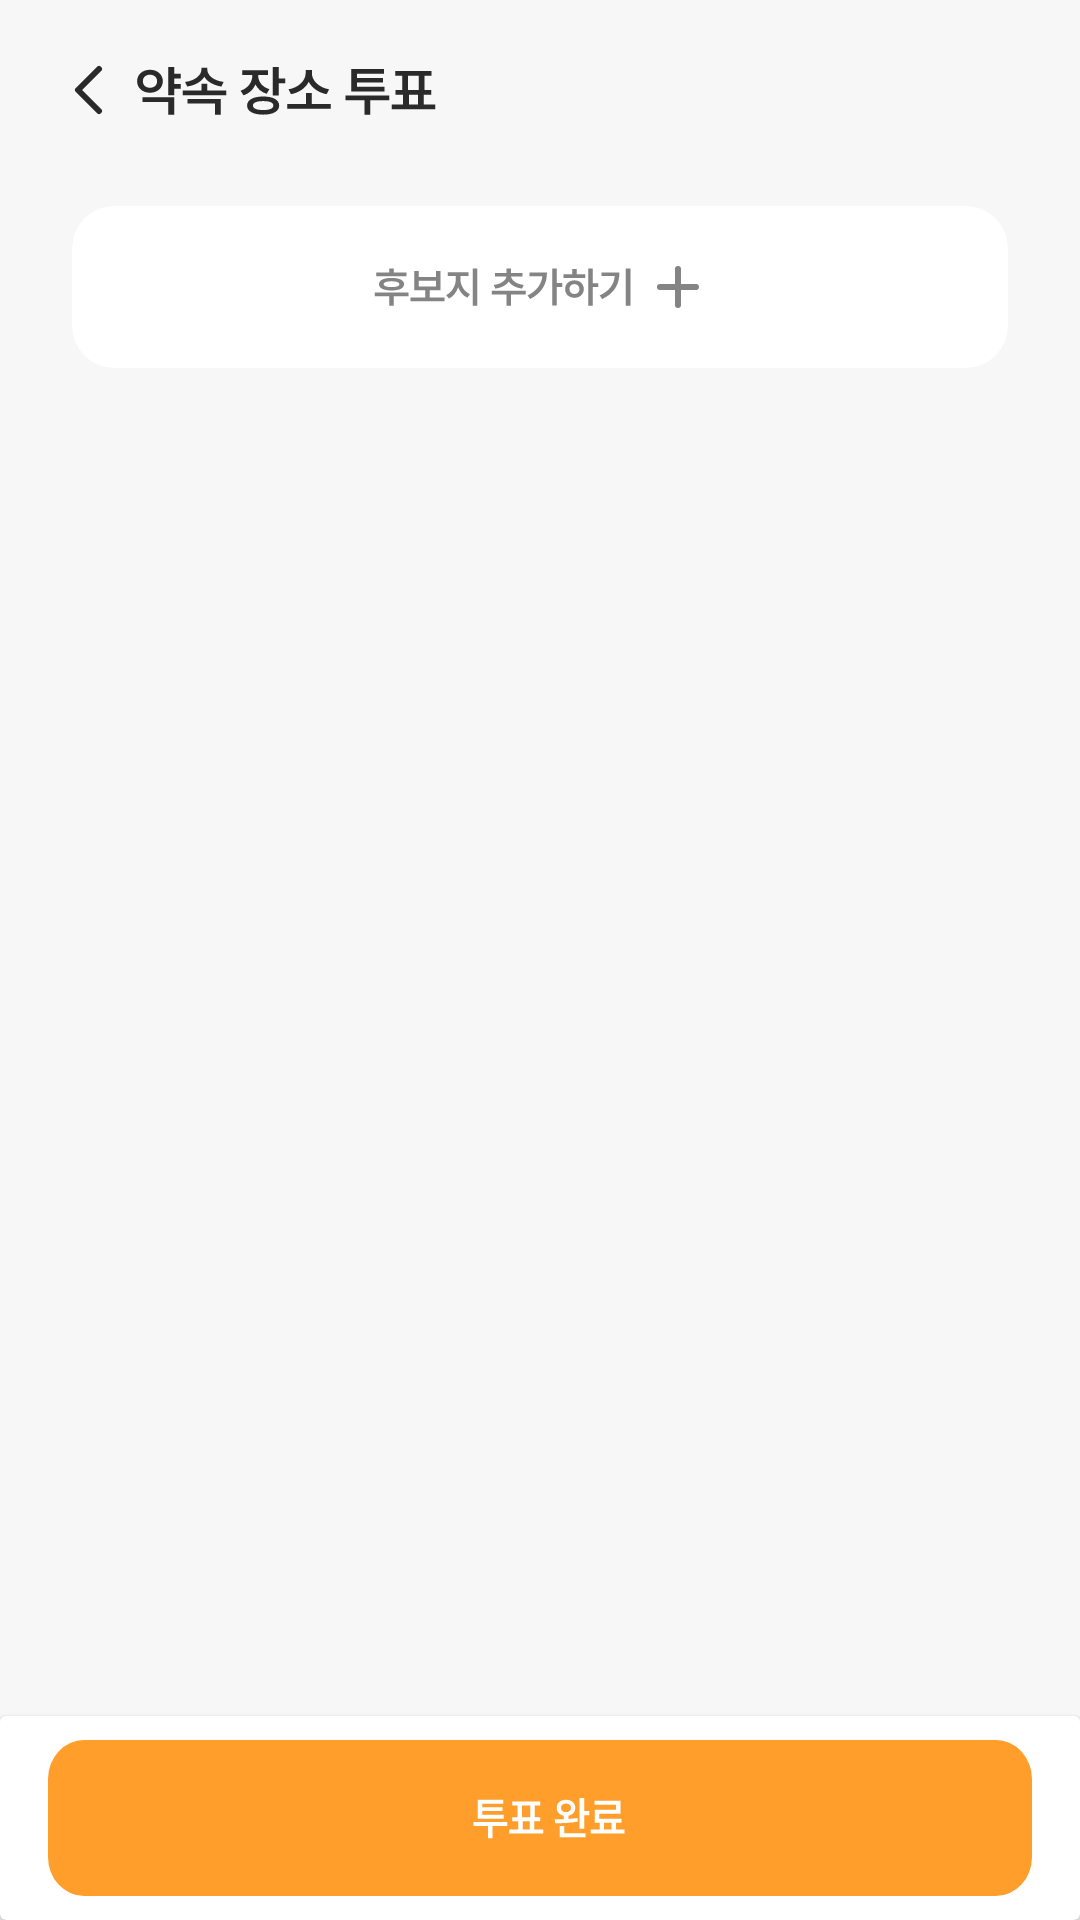

Point at icon controls on the screen. Image size 1080*1920, points as point (x, y).
navigate up: point (88, 90)
